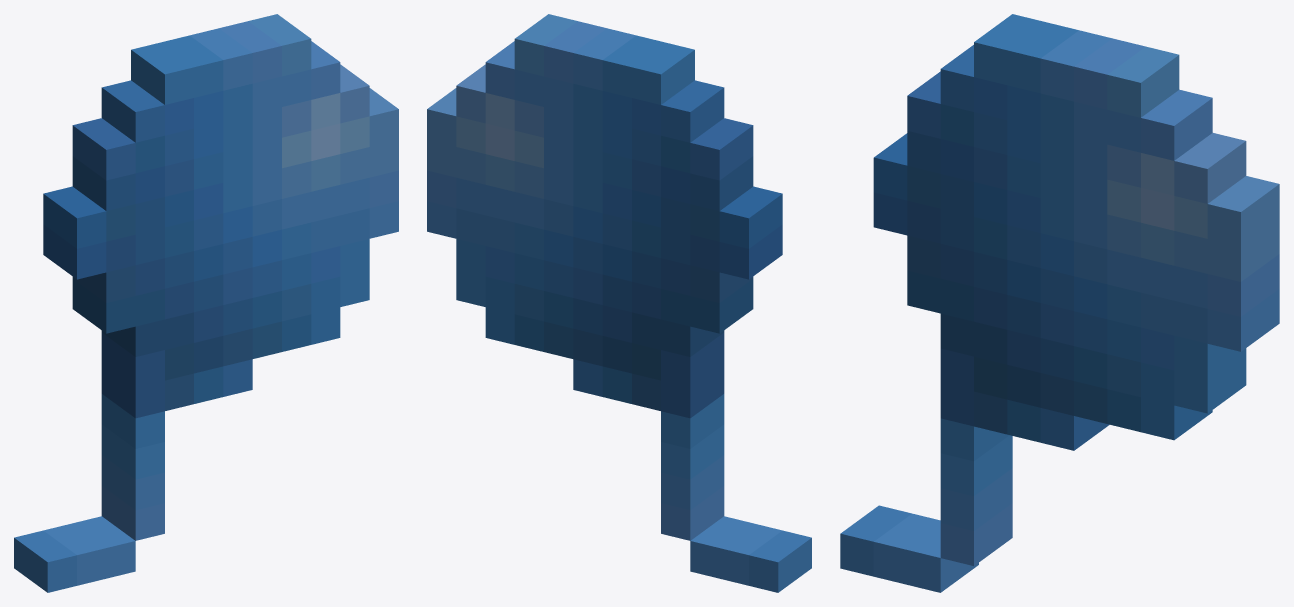
The model's file is balloon-blue.glb.
3 views of the same model, side by side, from view 1: azimuth 30°, elevation 25°; view 2: azimuth 150°, elevation 25°; view 3: azimuth 330°, elevation 25° (orthographic). The views are drawn at different scales.
Visible parts, largest first — view 1: prop; view 2: prop; view 3: prop.
Part boxes in pixels (<box>): prop: <box>14,14,398,592</box>; prop: <box>427,14,811,592</box>; prop: <box>840,14,1279,592</box>.
Size of the model in its own units: 12 by 16 by 2.
